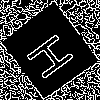H: (24, 25, 84, 83)
